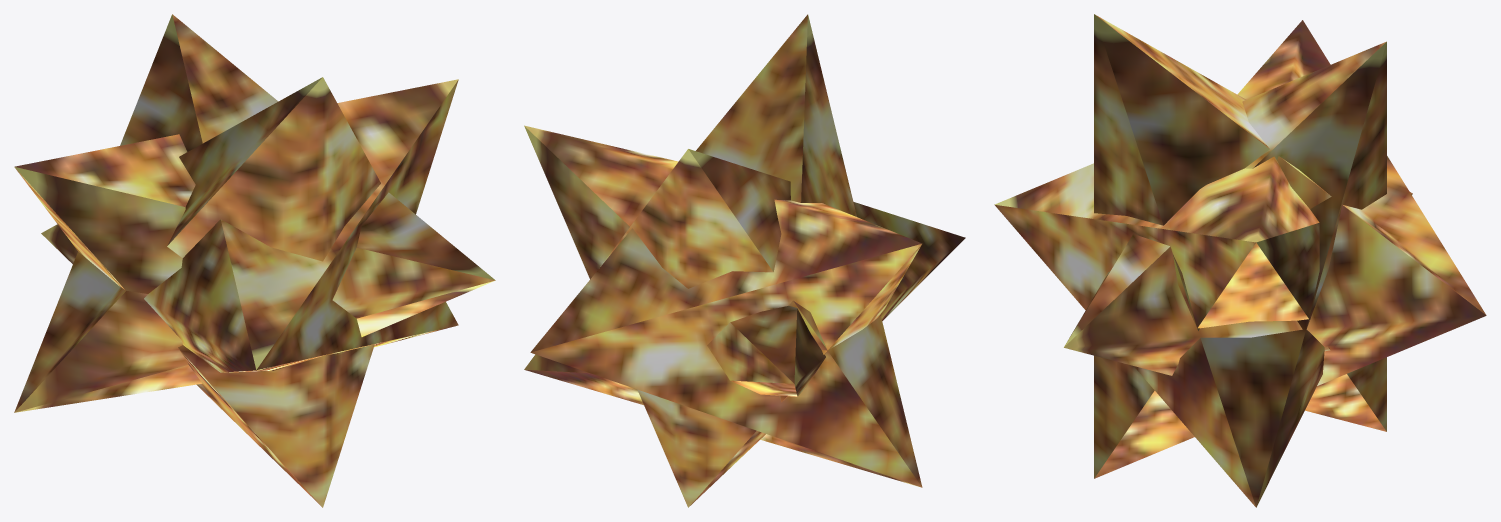
The model's file is Hedra11.obj.
The picture shows the model from 3 angles, left to right: view 1: azimuth 30°, elevation 25°; view 2: azimuth 150°, elevation 25°; view 3: azimuth 270°, elevation 25°; orthographic projection. The views are drawn at different scales.
Parts seen in each view (by area): view 1: Hedra11; view 2: Hedra11; view 3: Hedra11.
Part boxes in pixels (x1,y1,x2,y2): Hedra11: (14,14,495,507); Hedra11: (524,14,965,507); Hedra11: (994,14,1486,507).
Bounding box in the file's own units: 31.52 × 30.68 × 29.45.
